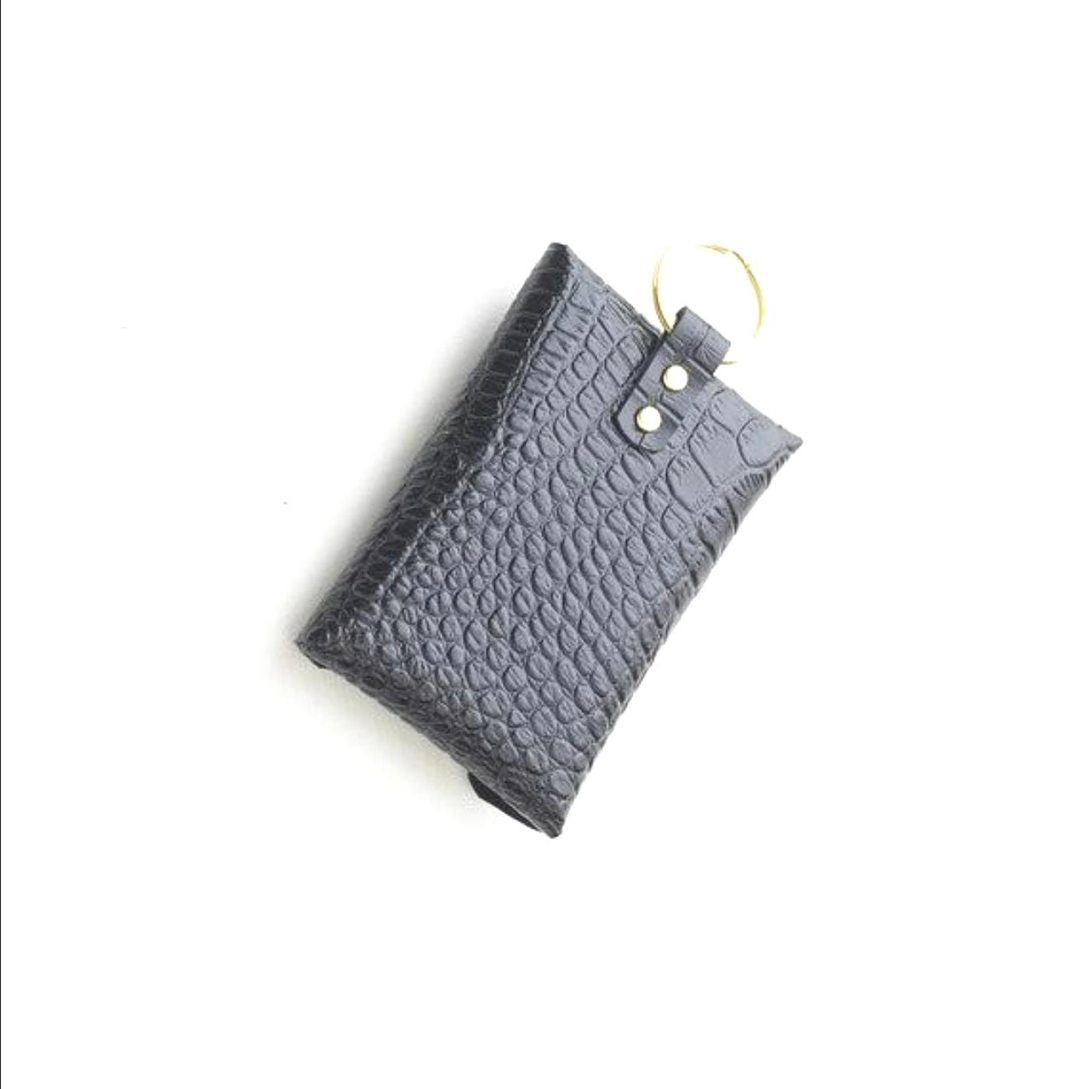wallet: (177, 229, 834, 889)
